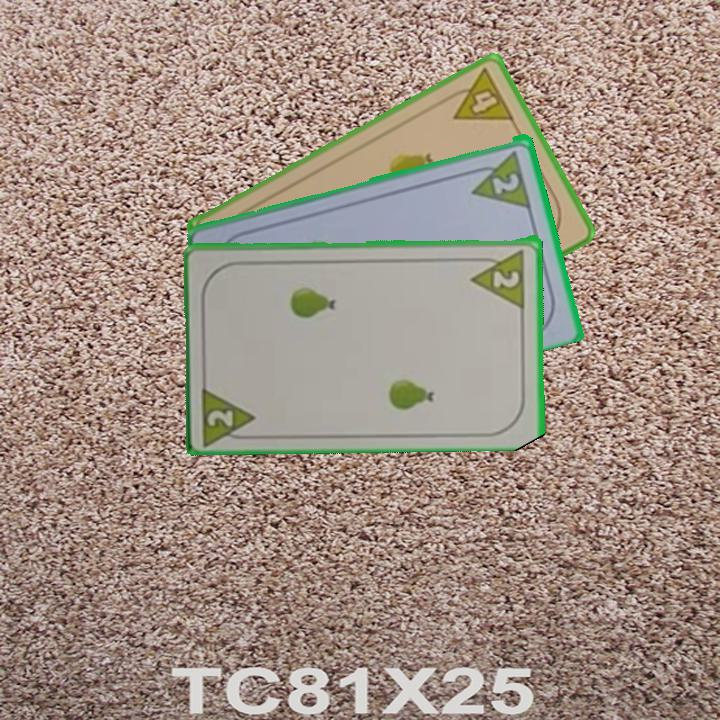2p: (464, 146, 534, 210), (198, 380, 260, 445), (468, 245, 528, 308)
4p: (440, 65, 518, 124)
